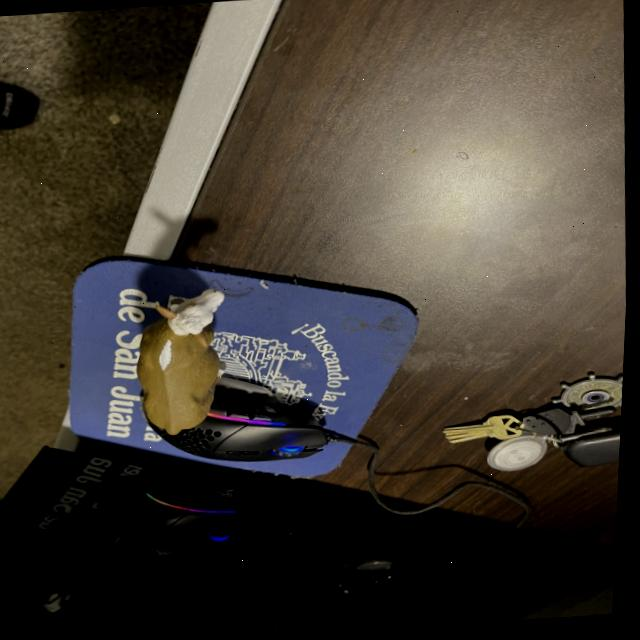cow: (138, 287, 227, 438)
